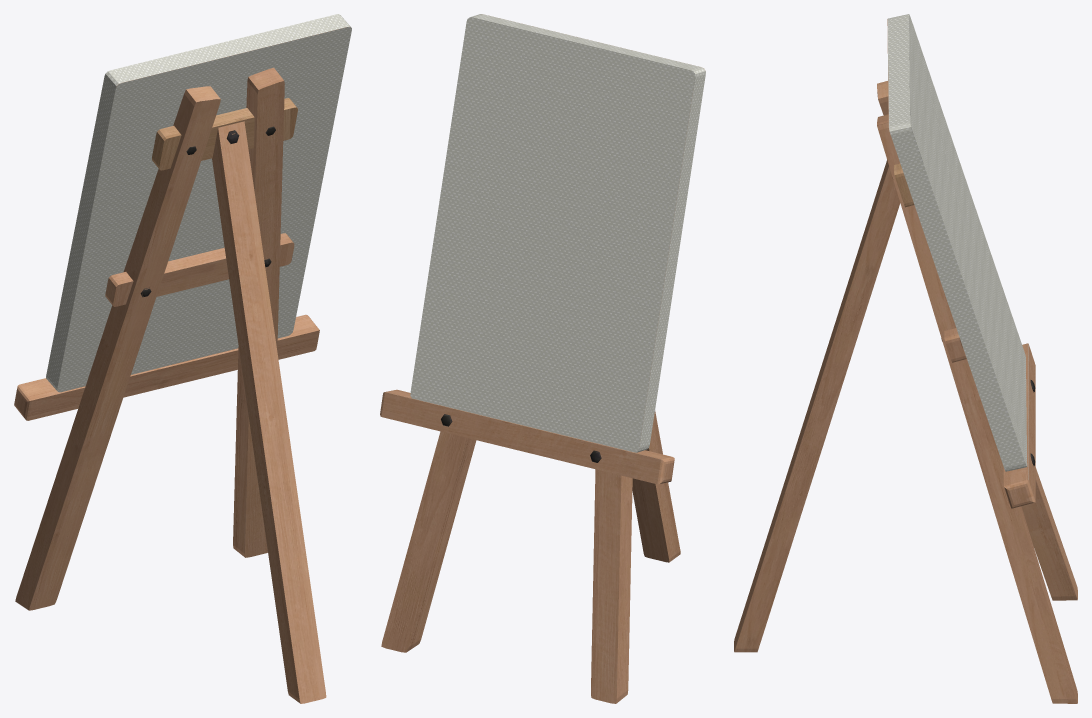
Rendered from Easel.fbx.
3 renders of one model, left to right at view 1: azimuth 30°, elevation 25°; view 2: azimuth 150°, elevation 25°; view 3: azimuth 270°, elevation 25°, orthographic. The views are drawn at different scales.
Parts seen in each view (by area): view 1: Cube.002; view 2: Cube.002; view 3: Cube.002.
Part boxes in pixels (box(x1,y1,x2,y2)): Cube.002: box(14, 14, 351, 703); Cube.002: box(380, 14, 705, 703); Cube.002: box(734, 14, 1077, 703).
Size of the model in its own units: 253 by 489 by 264.
